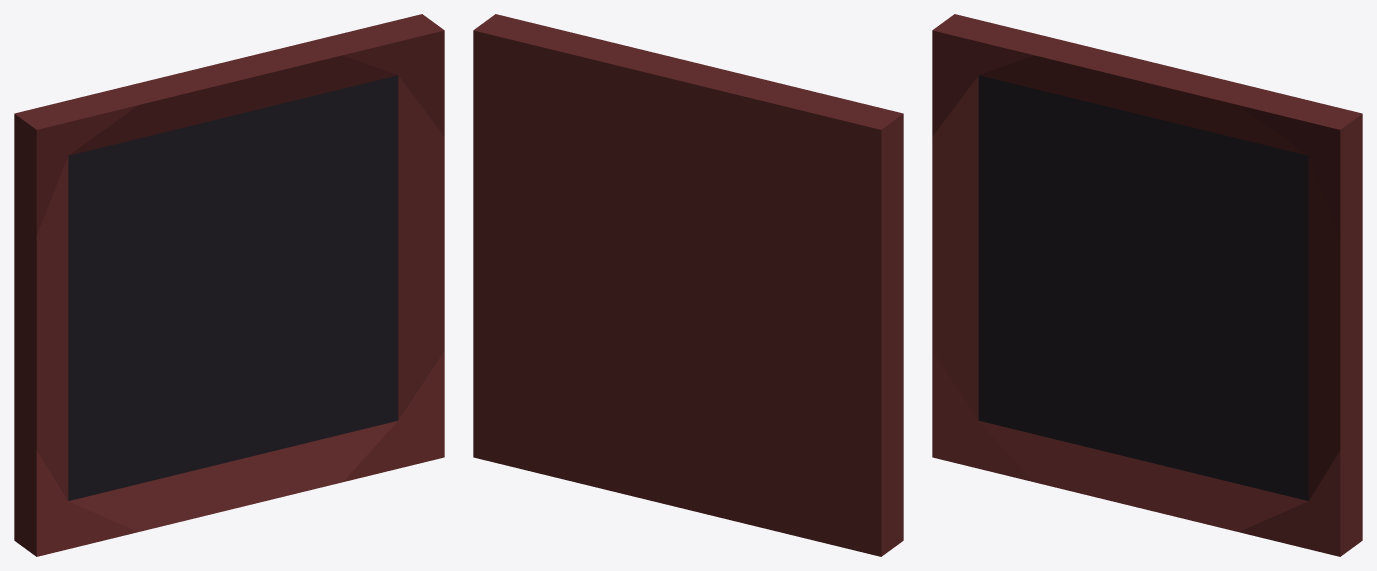
The model's file is PictureFrame_Onai.glb.
3 views of the same model, side by side, from view 1: azimuth 30°, elevation 25°; view 2: azimuth 150°, elevation 25°; view 3: azimuth 330°, elevation 25° (orthographic).
Visible parts, largest first — view 1: Cylinder; view 2: Cylinder; view 3: Cylinder.
Part boxes in pixels (<box>): Cylinder: <box>14,14,444,556</box>; Cylinder: <box>473,14,903,556</box>; Cylinder: <box>932,14,1362,556</box>.
Bounding box in the file's own units: 2 × 2 × 0.1904.
Materials: 2 (2 with a texture image).
